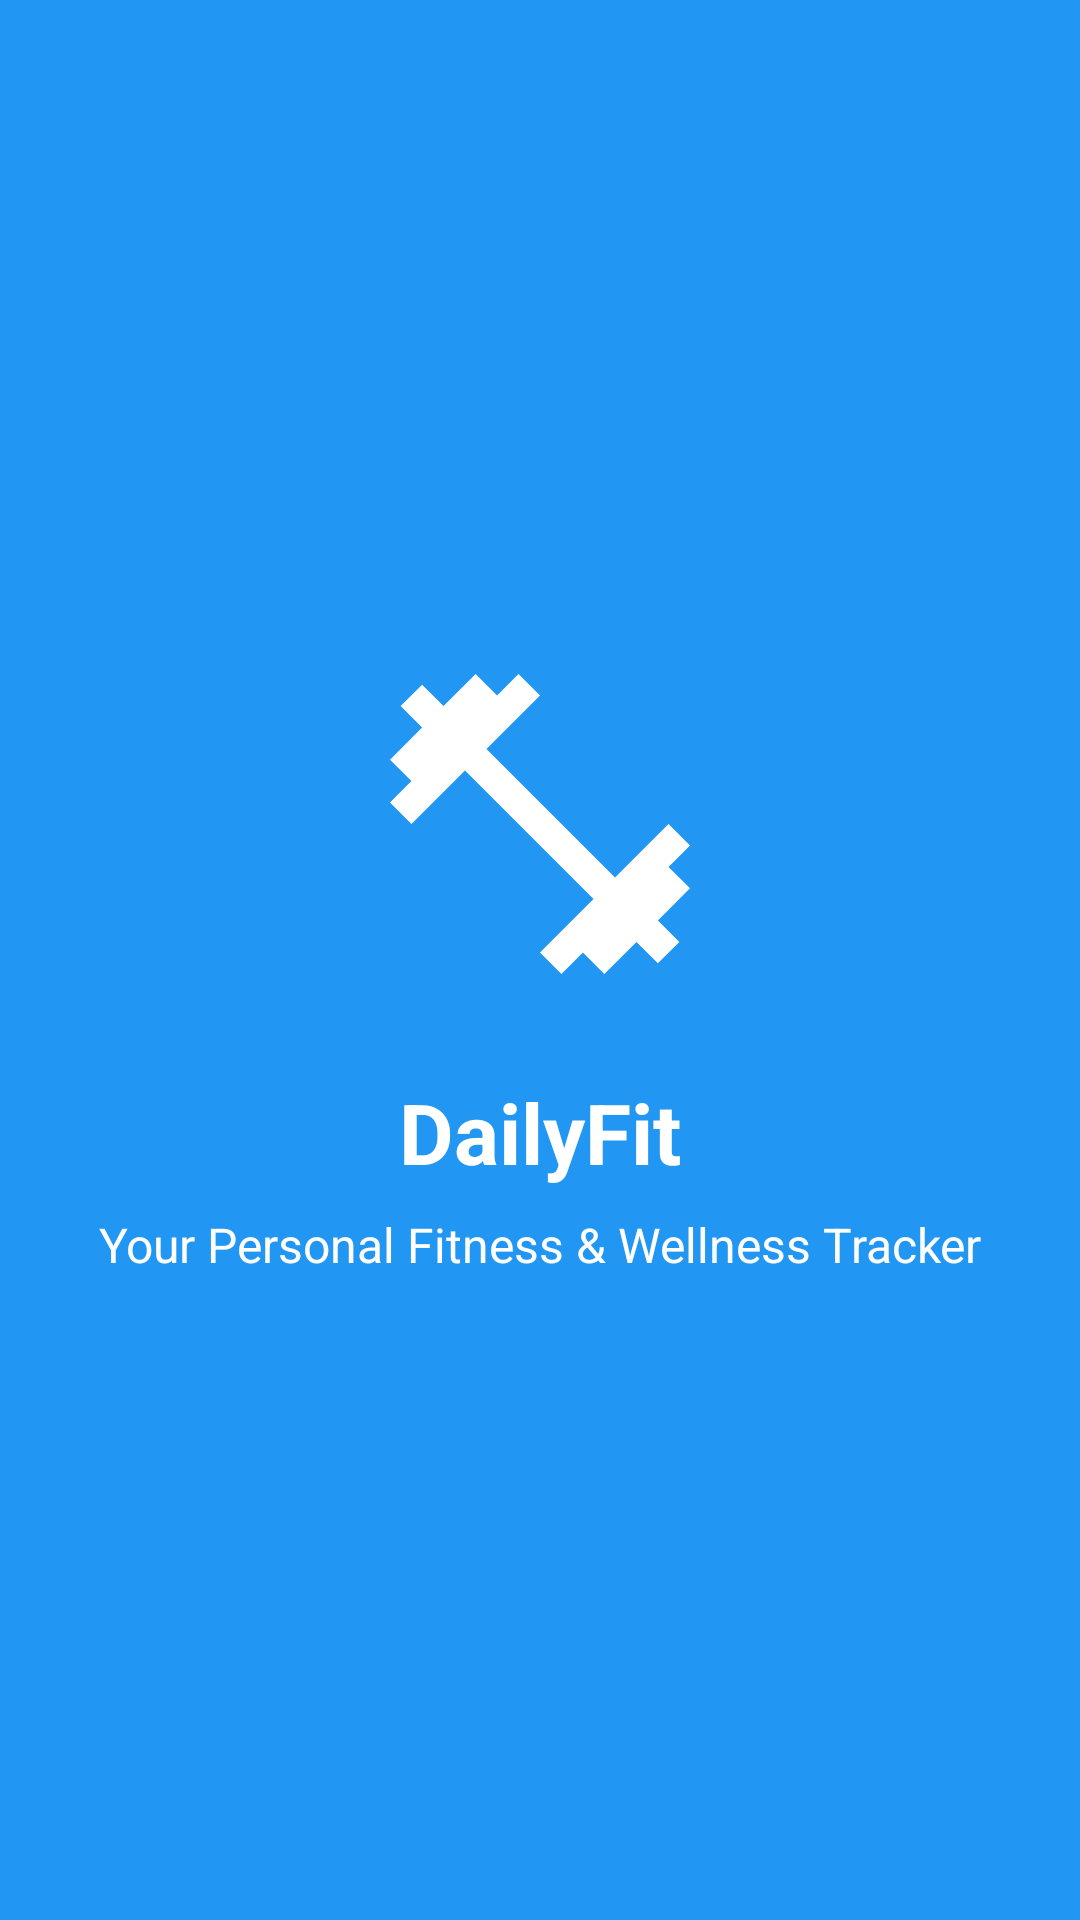

Where icons sit on this 1080*1920 app screen, as (x1, y1, x2, y2):
fitness: (390, 674, 690, 974)
